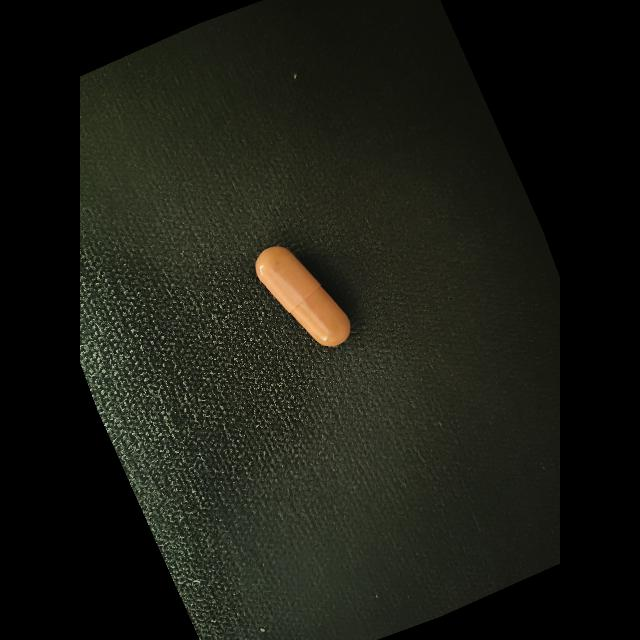Intact Capsule: (255, 246, 350, 347)
